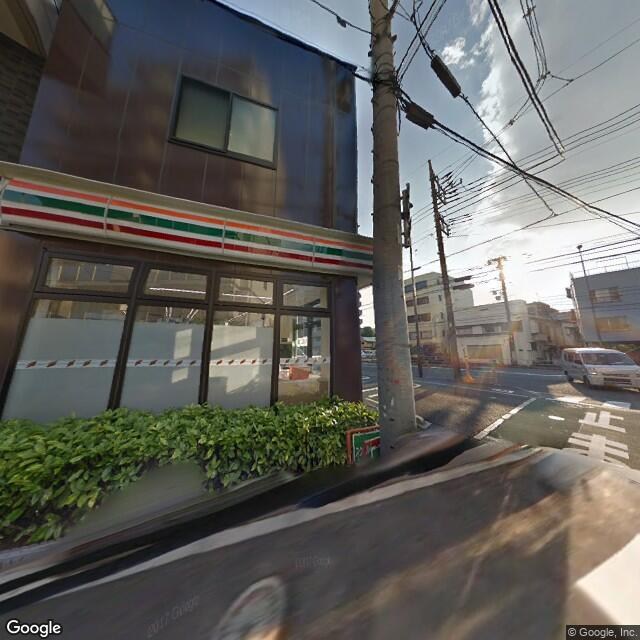7-eleven: (1, 174, 375, 279)
